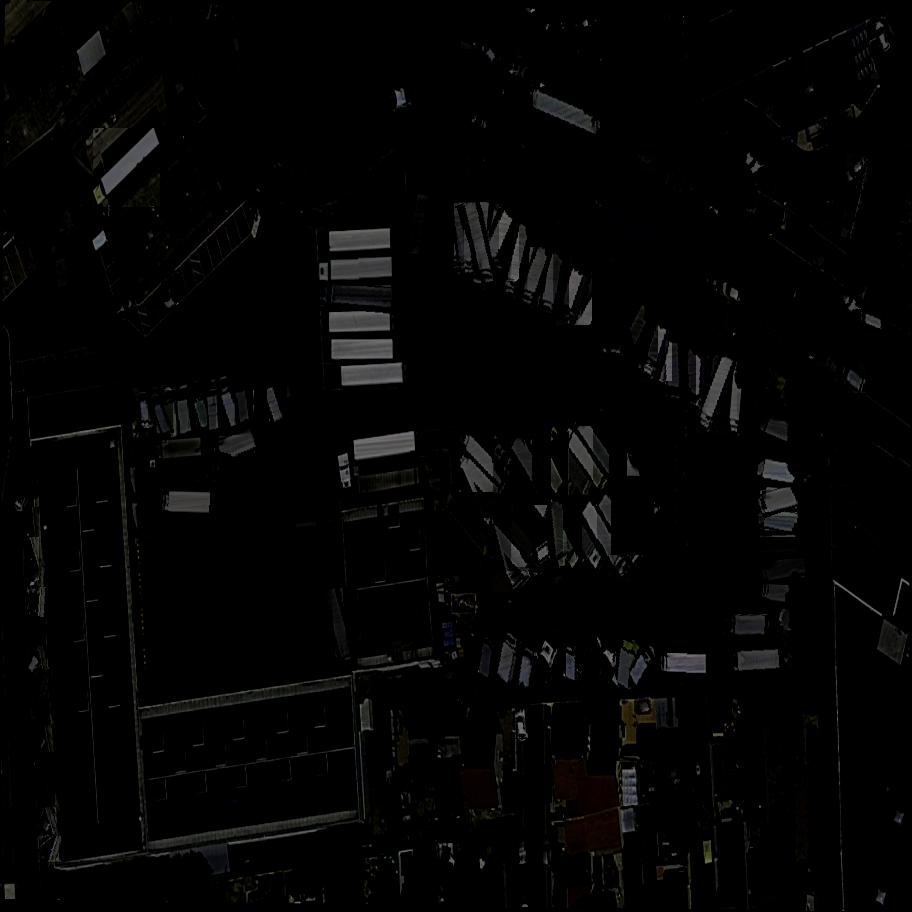large-vehicle: (88, 128, 167, 208), (440, 491, 509, 570), (488, 501, 558, 571), (578, 498, 635, 581), (571, 412, 632, 489), (508, 495, 572, 568), (425, 510, 491, 576), (594, 493, 649, 572), (540, 426, 598, 500), (523, 420, 575, 502), (527, 88, 609, 140), (455, 426, 519, 492), (608, 475, 660, 556), (568, 271, 622, 348), (616, 446, 666, 524), (507, 428, 556, 505), (561, 429, 615, 495), (696, 353, 739, 434), (561, 504, 610, 574), (455, 446, 501, 518), (488, 438, 537, 504), (490, 508, 528, 592), (477, 209, 521, 281), (465, 200, 500, 289), (324, 586, 358, 671), (616, 300, 660, 365), (502, 220, 537, 301), (433, 194, 468, 274), (556, 256, 595, 325), (404, 193, 435, 273), (758, 413, 817, 454), (541, 238, 570, 320), (519, 245, 555, 311), (319, 256, 399, 284), (319, 284, 399, 312), (640, 318, 675, 381), (727, 357, 753, 437), (602, 280, 627, 360), (758, 481, 813, 517), (551, 490, 574, 574), (211, 429, 263, 466), (454, 200, 478, 280), (759, 553, 814, 587), (210, 456, 267, 488), (757, 506, 814, 538), (626, 641, 661, 689), (216, 375, 245, 432), (756, 457, 809, 488), (210, 339, 268, 367), (497, 629, 523, 688), (732, 650, 786, 677), (261, 375, 289, 427), (162, 491, 215, 518), (158, 438, 210, 465), (188, 383, 216, 433), (761, 581, 810, 609), (161, 385, 185, 439), (161, 462, 209, 488), (667, 335, 685, 404), (752, 533, 803, 557), (616, 636, 637, 694), (149, 390, 175, 436), (686, 343, 704, 409), (176, 382, 197, 437), (233, 371, 254, 426), (661, 652, 711, 675), (778, 606, 817, 635), (207, 377, 224, 434), (730, 615, 772, 638), (479, 633, 498, 682), (519, 645, 537, 692), (582, 632, 596, 685), (254, 372, 267, 418), (567, 638, 579, 684)
small-vehicle: (755, 158, 789, 196), (26, 669, 59, 703), (794, 330, 826, 365), (478, 111, 509, 146), (532, 4, 563, 38), (738, 143, 767, 179), (22, 618, 51, 653), (839, 366, 872, 396), (31, 753, 60, 787), (23, 587, 50, 622), (843, 154, 873, 185), (775, 320, 805, 351), (35, 808, 60, 845), (497, 49, 527, 79), (545, 155, 572, 188), (834, 122, 867, 149), (516, 61, 544, 92), (34, 837, 66, 864), (459, 95, 485, 128), (716, 204, 749, 230), (870, 42, 892, 80), (36, 777, 57, 815), (26, 647, 49, 681), (501, 130, 532, 155), (478, 37, 503, 68), (857, 309, 889, 333), (737, 218, 766, 244), (33, 725, 54, 760), (819, 354, 846, 380), (698, 192, 726, 217), (13, 478, 33, 513), (457, 24, 485, 49), (875, 22, 895, 57), (522, 148, 551, 172), (837, 288, 860, 317), (21, 507, 40, 542), (24, 567, 48, 594), (562, 176, 591, 198), (161, 271, 177, 310), (139, 392, 156, 428), (719, 282, 746, 304), (537, 767, 553, 804), (110, 295, 135, 318), (4, 701, 18, 741), (828, 203, 856, 222), (35, 699, 51, 732), (580, 189, 606, 209), (694, 269, 721, 288), (27, 538, 42, 570), (632, 697, 655, 717), (517, 777, 530, 811), (515, 709, 529, 739), (9, 806, 20, 844), (564, 32, 582, 54), (519, 830, 529, 867), (542, 835, 553, 868), (763, 200, 773, 234), (813, 277, 835, 292), (518, 867, 527, 896)
